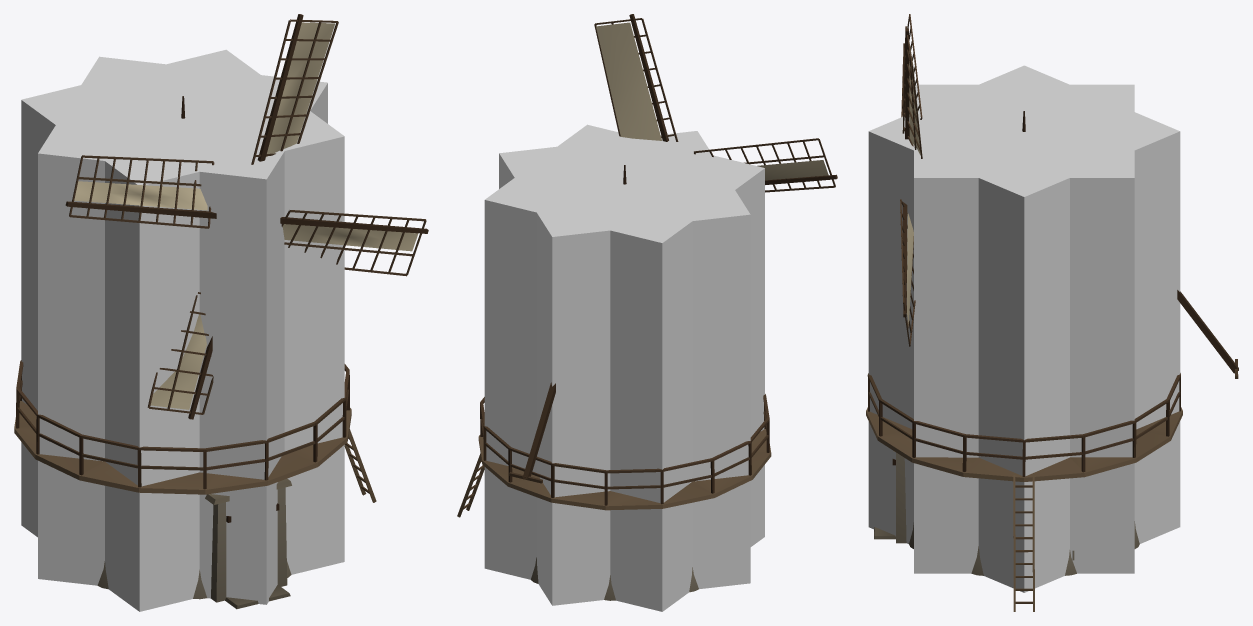
File: windmill.glb
3 views of the same model, side by side, from view 1: azimuth 30°, elevation 25°; view 2: azimuth 150°, elevation 25°; view 3: azimuth 270°, elevation 25° (orthographic). The views are drawn at different scales.
Parts seen in each view (by area): view 1: COL_tower_a, COL_tower_b, ROT_blades, windmill; view 2: COL_tower_a, COL_tower_b, windmill, ROT_blades; view 3: COL_tower_b, COL_tower_a, windmill, ROT_blades.
Part boxes in pixels (<box>): COL_tower_a: <box>21,49,344,611</box>; COL_tower_b: <box>38,56,327,604</box>; ROT_blades: <box>65,14,428,419</box>; windmill: <box>14,96,376,609</box>; COL_tower_a: <box>484,124,764,611</box>; COL_tower_b: <box>499,131,750,605</box>; windmill: <box>457,165,771,600</box>; ROT_blades: <box>594,14,837,192</box>; COL_tower_b: <box>868,65,1180,592</box>; COL_tower_a: <box>914,84,1134,573</box>; windmill: <box>866,111,1238,611</box>; ROT_blades: <box>900,14,922,346</box>.
Bounding box in the file's own units: 9.88 × 14.41 × 9.31.
